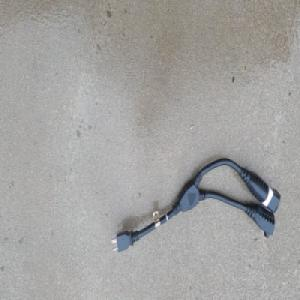Wire: (110, 155, 281, 255)
